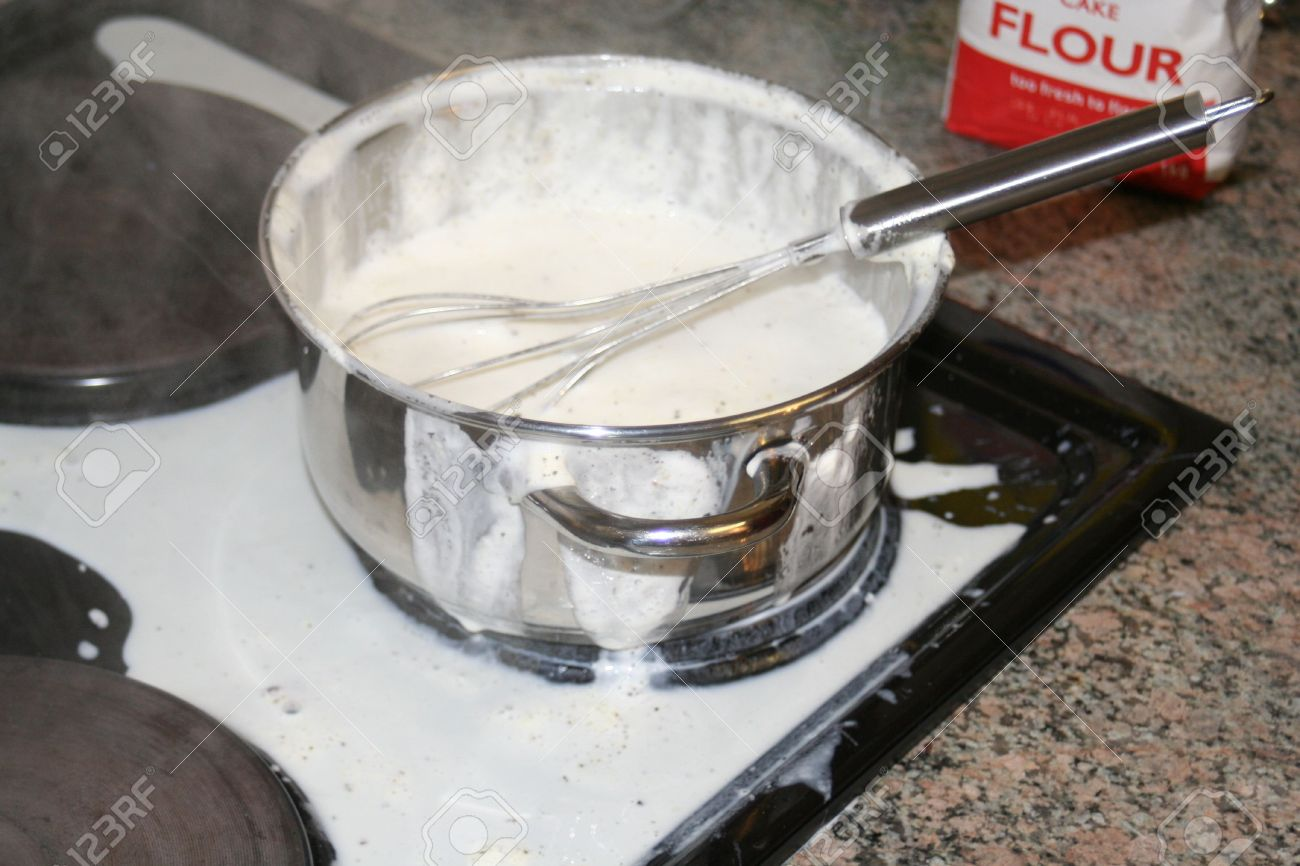Boiled: (231, 37, 955, 696)
